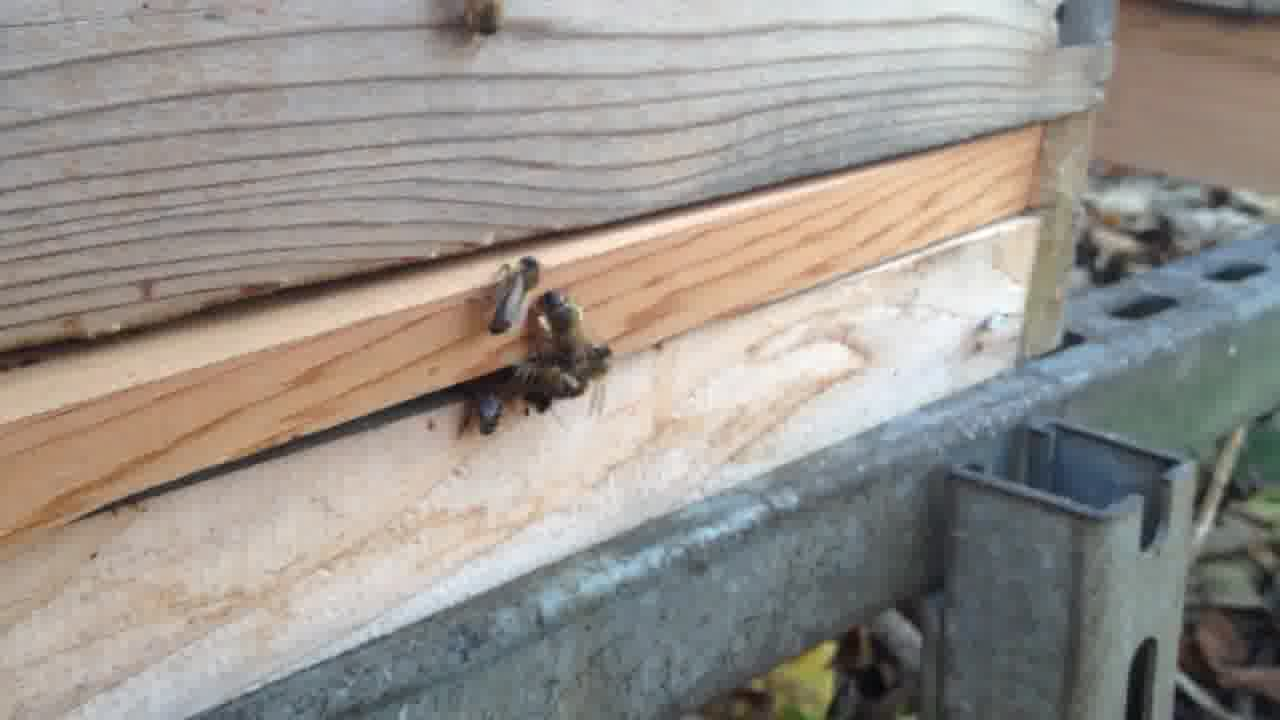pollen: (536, 290, 596, 369)
